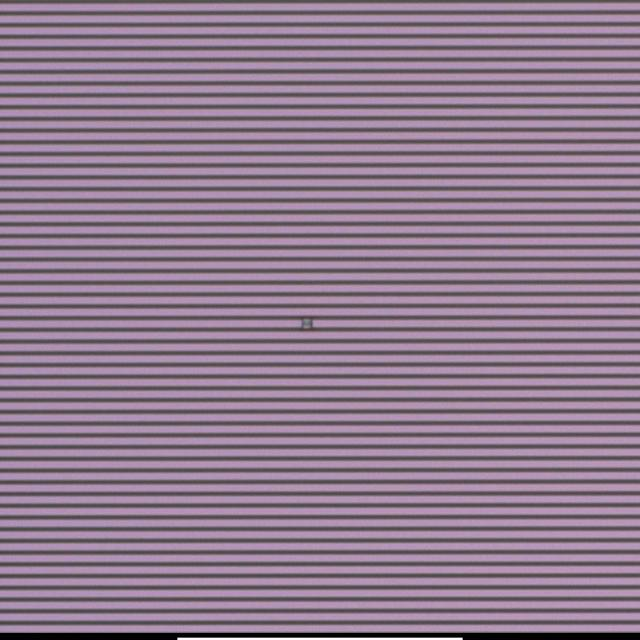03_intrusion: (293, 312, 319, 334)
